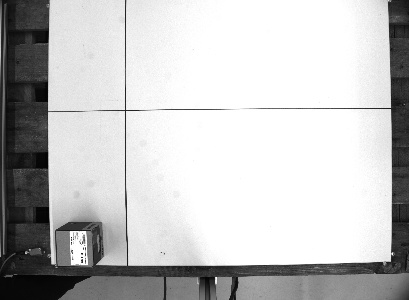b7: (53, 219, 105, 270)
